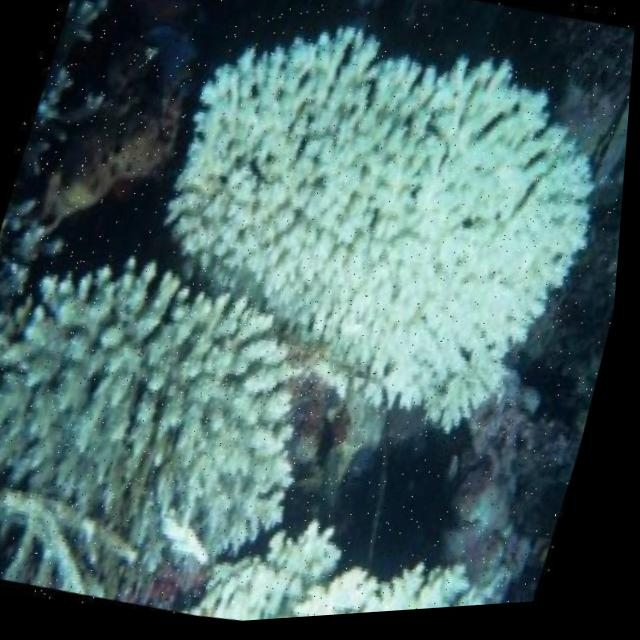Bleached Coral: (113, 0, 640, 447), (0, 220, 372, 635), (217, 490, 561, 627)
